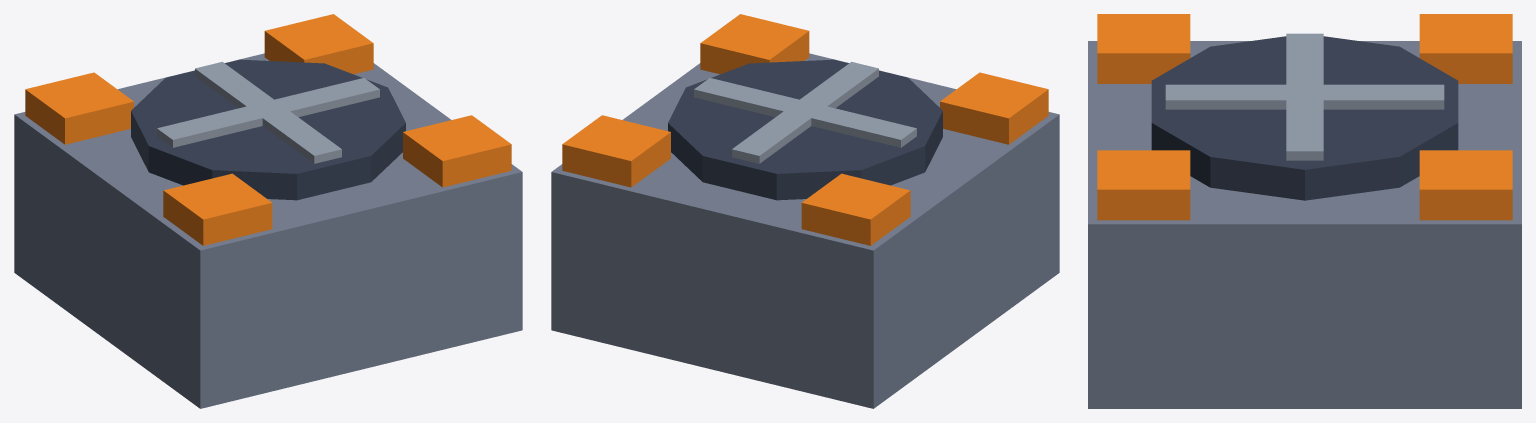
The model's file is env_r9_floor_vent_block.glb.
3 views of the same model, side by side, from view 1: azimuth 30°, elevation 25°; view 2: azimuth 150°, elevation 25°; view 3: azimuth 270°, elevation 25° (orthographic). The views are drawn at different scales.
Visible parts, largest first — view 1: env_r9_floor_vent_block; view 2: env_r9_floor_vent_block; view 3: env_r9_floor_vent_block.
Boxes of the visible parts, x1,y1,x2,y2 form: env_r9_floor_vent_block: [14, 14, 522, 408]; env_r9_floor_vent_block: [551, 14, 1059, 408]; env_r9_floor_vent_block: [1088, 14, 1521, 408].
Bounding box in the file's own units: 1.4 × 0.8 × 1.4.
1 material, 1 textured.
